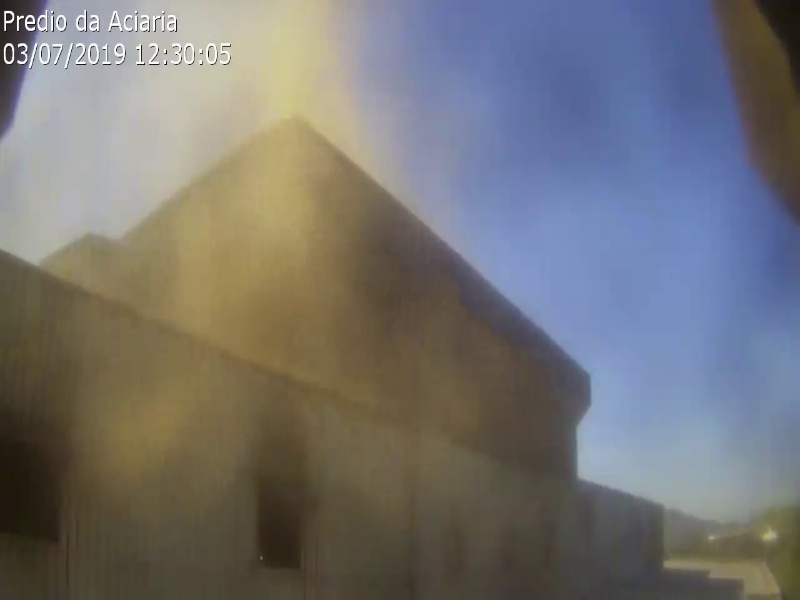Pessimo: (256, 1, 323, 127), (193, 1, 260, 127), (114, 361, 212, 442), (144, 280, 242, 361), (181, 246, 279, 327), (237, 291, 335, 372), (241, 217, 339, 298), (217, 143, 315, 224), (104, 222, 202, 303), (130, 72, 179, 170)
